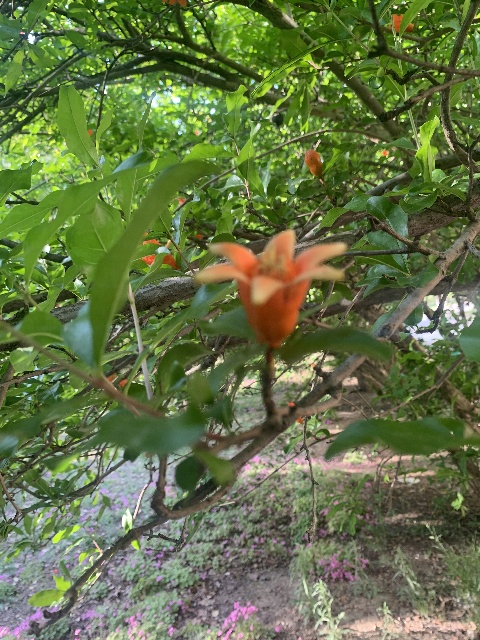bud: (303, 149, 323, 176)
flower: (195, 228, 348, 347), (141, 233, 179, 271), (389, 13, 413, 32)
